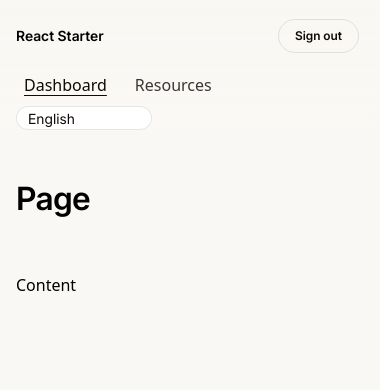
UserPageLayout sign-out › explains a failed sign-out and lets the user try again
Expected: the heading "Page" is shown, x1=16 y1=179 x2=90 y2=218
Step 1. Click the button "Sign out" → {"x": 318, "y": 36}, box x1=278 y1=19 x2=359 y2=53
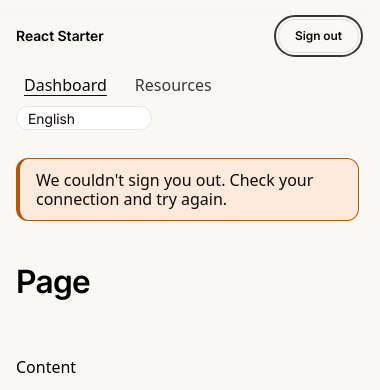
Expected: the message shows "We couldn't sign you out", x1=36 y1=169 x2=313 y2=210
Step 2. Click the button "Sign out" → {"x": 318, "y": 36}, box x1=278 y1=19 x2=359 y2=53
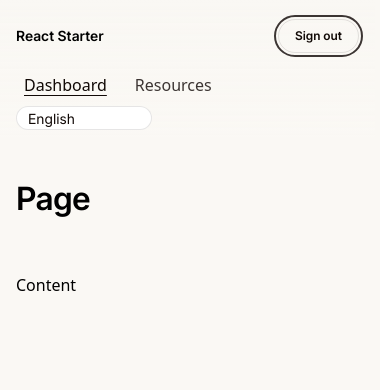
Expected: the message "We couldn't sign you out. Check your connection and try again." is gone
